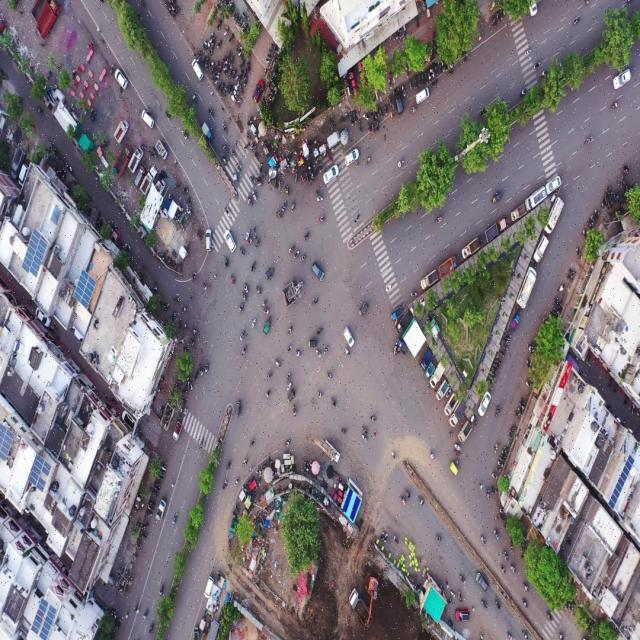3W: (491, 190, 507, 205), (233, 398, 242, 421), (447, 461, 459, 478), (262, 316, 271, 338), (265, 264, 275, 283), (358, 300, 367, 319), (308, 337, 318, 350), (288, 390, 295, 405)
Cars: (610, 67, 631, 91), (533, 235, 549, 264), (474, 569, 491, 592), (224, 229, 239, 254), (322, 163, 339, 185), (141, 107, 156, 130), (478, 392, 491, 417), (251, 78, 264, 103), (310, 261, 326, 281), (345, 146, 360, 167), (115, 68, 129, 90), (343, 325, 356, 348), (546, 176, 561, 195), (395, 86, 404, 115), (192, 59, 203, 82), (203, 575, 214, 598), (415, 87, 429, 105), (204, 227, 213, 252), (455, 609, 471, 622)
LCV: (516, 267, 539, 308), (545, 197, 564, 234), (139, 165, 158, 194), (526, 189, 546, 211), (450, 401, 467, 426), (128, 147, 144, 172), (113, 120, 129, 143), (420, 271, 438, 291), (326, 129, 342, 151), (462, 238, 479, 258), (395, 313, 410, 335), (510, 203, 526, 223), (155, 496, 166, 525), (458, 420, 472, 442), (431, 364, 443, 388), (436, 380, 450, 400), (445, 393, 457, 415), (155, 140, 168, 160), (172, 421, 184, 441), (390, 305, 402, 322), (396, 338, 408, 355), (421, 351, 432, 369), (424, 362, 435, 379), (510, 314, 520, 332)
M2W: (457, 571, 468, 587), (434, 531, 445, 547), (584, 133, 595, 148), (545, 610, 555, 626), (301, 228, 313, 241), (609, 99, 622, 111), (504, 626, 515, 640), (140, 606, 149, 623), (325, 370, 336, 383), (329, 395, 338, 410), (342, 348, 353, 360), (236, 302, 246, 315), (572, 13, 582, 26), (207, 104, 215, 120), (286, 325, 295, 339), (311, 295, 320, 309), (265, 370, 274, 384), (241, 342, 248, 360), (238, 330, 247, 344), (230, 146, 239, 160), (520, 628, 530, 640), (518, 86, 528, 98), (364, 155, 374, 167), (485, 485, 492, 502), (480, 598, 489, 611), (146, 621, 155, 634), (492, 441, 500, 455), (575, 245, 582, 261), (274, 358, 284, 369), (433, 216, 443, 227), (494, 598, 503, 610), (522, 582, 531, 594), (264, 388, 273, 400), (158, 585, 167, 597), (383, 283, 392, 295), (250, 259, 257, 274), (197, 436, 204, 451), (521, 597, 529, 610), (368, 413, 377, 424), (340, 424, 349, 435), (287, 243, 296, 254), (448, 618, 457, 629), (479, 532, 486, 546), (509, 562, 516, 576), (133, 603, 140, 617), (315, 325, 323, 337), (276, 209, 282, 225), (457, 589, 463, 605), (493, 529, 500, 542), (502, 549, 509, 562), (499, 563, 506, 576), (255, 284, 262, 297), (254, 238, 261, 251), (241, 456, 248, 469), (223, 204, 230, 217), (180, 129, 187, 142), (404, 487, 411, 500), (135, 539, 142, 552), (360, 434, 369, 444), (171, 514, 177, 529), (220, 123, 229, 133), (532, 60, 541, 70), (397, 159, 406, 169), (262, 306, 271, 316), (232, 476, 240, 487), (429, 449, 436, 461), (224, 255, 230, 269), (243, 282, 249, 296), (222, 479, 229, 491), (192, 91, 198, 105), (540, 67, 547, 79), (250, 175, 257, 187), (204, 362, 210, 376), (391, 450, 397, 464), (387, 76, 393, 90), (315, 194, 324, 203), (513, 412, 522, 421), (292, 249, 300, 259), (71, 68, 76, 84), (251, 317, 257, 330), (282, 201, 288, 214), (291, 404, 297, 417), (109, 63, 115, 76), (285, 342, 292, 353), (164, 110, 171, 121), (317, 390, 324, 401), (400, 495, 407, 506), (450, 589, 457, 600), (558, 283, 565, 294), (418, 494, 424, 506), (239, 246, 245, 258), (226, 459, 232, 471), (222, 154, 228, 166), (354, 212, 360, 224), (478, 233, 484, 245), (318, 215, 326, 224), (290, 200, 296, 212), (244, 229, 250, 241), (245, 238, 254, 246), (251, 190, 257, 202), (191, 270, 197, 282), (284, 185, 290, 197), (495, 405, 501, 417), (444, 578, 450, 590), (491, 472, 499, 481), (551, 297, 557, 309), (412, 77, 418, 89), (407, 79, 413, 91), (524, 47, 531, 57), (246, 197, 253, 207), (221, 143, 228, 153), (315, 349, 322, 359), (36, 105, 43, 115), (181, 304, 188, 314), (295, 348, 301, 359), (182, 407, 188, 418), (379, 530, 385, 541), (262, 170, 268, 181), (249, 141, 255, 152), (240, 59, 246, 70), (230, 274, 235, 287), (251, 438, 256, 451), (417, 74, 422, 87), (410, 290, 418, 298), (525, 381, 533, 389), (408, 107, 417, 114), (449, 68, 456, 77), (216, 3, 223, 12), (202, 43, 209, 52), (261, 297, 267, 307), (286, 381, 292, 391), (323, 345, 329, 355), (235, 161, 241, 171), (507, 432, 513, 442), (430, 67, 435, 79), (259, 160, 264, 172), (217, 39, 223, 49), (217, 19, 223, 29), (224, 26, 230, 36), (218, 64, 223, 76), (141, 524, 149, 531), (494, 358, 502, 365), (551, 309, 558, 317), (431, 79, 438, 87), (202, 281, 207, 292), (300, 254, 306, 263), (453, 451, 462, 457), (500, 345, 509, 351), (221, 55, 227, 64), (199, 364, 203, 377), (194, 370, 198, 383), (496, 12, 500, 25), (402, 84, 406, 97), (388, 93, 392, 106), (384, 104, 388, 117), (227, 49, 231, 62), (210, 31, 214, 44), (233, 173, 238, 183), (243, 77, 248, 87), (228, 34, 233, 44), (235, 43, 240, 53), (232, 70, 237, 80), (214, 75, 219, 85), (201, 56, 206, 66), (197, 49, 202, 59), (454, 444, 461, 451), (140, 533, 147, 540), (502, 449, 509, 456), (509, 426, 516, 433), (498, 351, 505, 358), (568, 269, 575, 276), (92, 110, 96, 122), (492, 488, 498, 496), (566, 274, 572, 282), (492, 16, 496, 28), (421, 73, 425, 85), (376, 120, 380, 132), (349, 115, 353, 127), (300, 174, 304, 186), (212, 35, 216, 47), (239, 69, 243, 81), (286, 373, 291, 382), (428, 71, 432, 82), (215, 61, 219, 72), (228, 69, 232, 80), (519, 403, 525, 410), (491, 367, 497, 374), (371, 121, 374, 135), (245, 133, 251, 140), (205, 41, 211, 48), (230, 56, 234, 66), (243, 69, 247, 79), (224, 60, 228, 70), (217, 82, 221, 92), (221, 81, 225, 91), (205, 58, 209, 68), (359, 121, 362, 134), (354, 111, 357, 124), (247, 61, 250, 74), (236, 75, 239, 88), (150, 501, 156, 507), (152, 491, 158, 497), (499, 457, 505, 463), (439, 63, 442, 75), (435, 65, 438, 77), (379, 107, 382, 119), (306, 171, 309, 183), (275, 177, 278, 189), (239, 47, 243, 56), (209, 46, 213, 55), (497, 460, 502, 467), (425, 73, 428, 84), (308, 163, 311, 174), (240, 84, 243, 95), (372, 113, 375, 123), (278, 179, 281, 189), (495, 468, 502, 472), (295, 173, 297, 183)
Truck: (34, 2, 60, 40), (349, 589, 372, 629), (114, 144, 130, 177)
